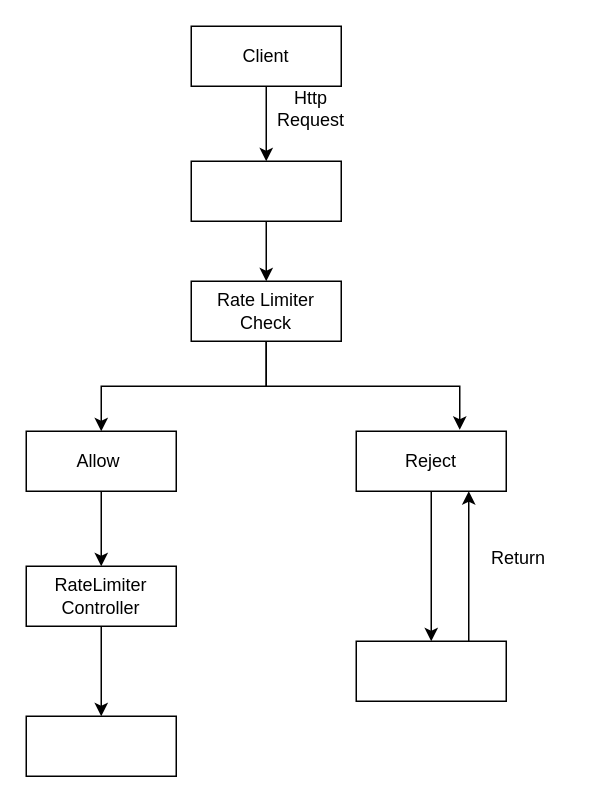
Some shapes in this 593 by 803 pixel diagram are drawn without their labels. The shapes that lost their labels are listed below. From the top down, each one's centre as x and y in pixels, then its label:
pixel 265 190: RateLimiter
pixel 430 670: Return 429 Too Many Request
pixel 100 745: Http 200
